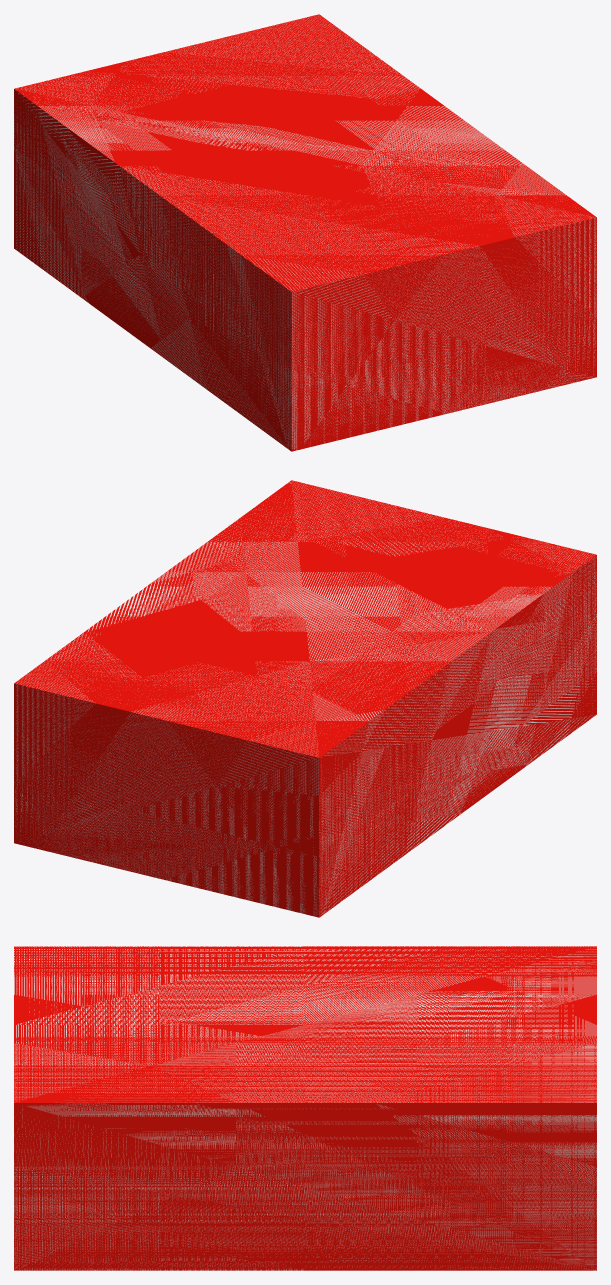
The model's file is Robot2D_car.dae.
The picture shows the model from 3 angles, top to bottom: view 1: azimuth 30°, elevation 25°; view 2: azimuth 150°, elevation 25°; view 3: azimuth 270°, elevation 25°; orthographic projection. The views are drawn at different scales.
Parts seen in each view (by area): view 1: SketchUp; view 2: SketchUp; view 3: SketchUp.
Boxes of the visible parts, x1,y1,x2,y2 form: SketchUp: [14, 14, 596, 451]; SketchUp: [14, 480, 596, 917]; SketchUp: [14, 946, 596, 1270].
Size of the model in its own units: 0.05 by 0.0787 by 0.025.
